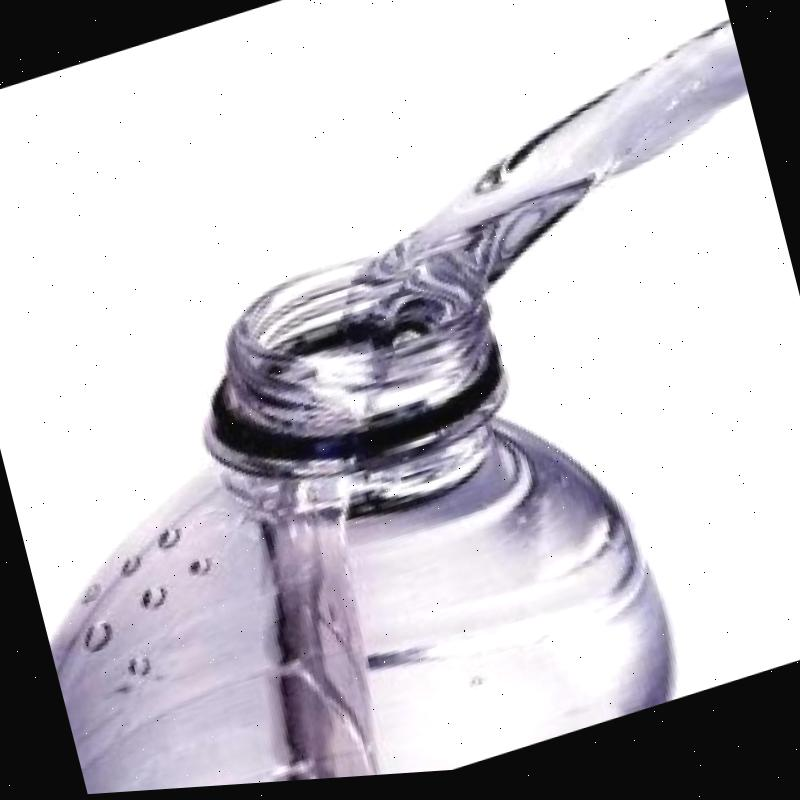botella: (0, 191, 687, 800)
